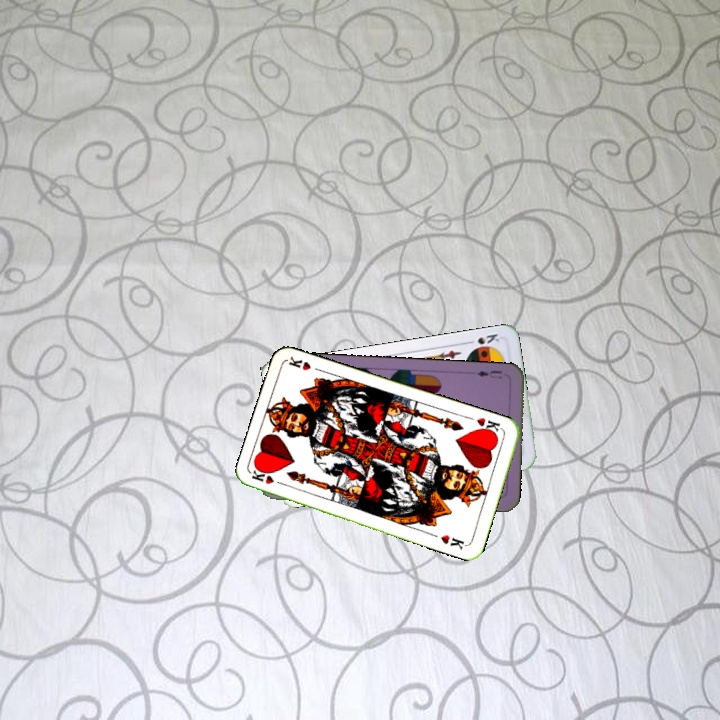EU: (473, 366, 504, 381)
HK: (248, 466, 289, 488), (472, 413, 505, 438)
SK: (462, 330, 502, 347)
